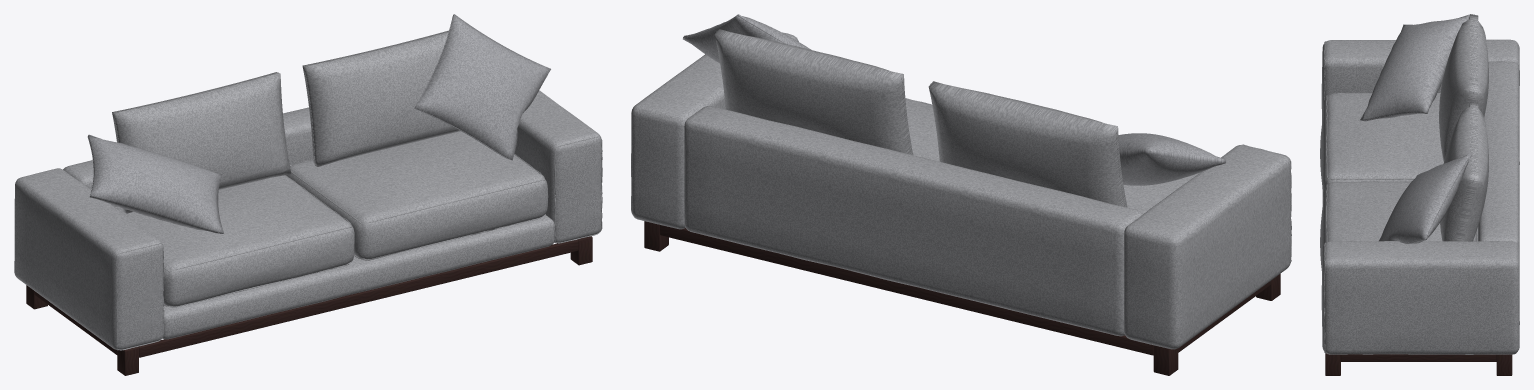
The model's file is stanza-straight-01-mobile.glb.
3 views of the same model, side by side, from view 1: azimuth 30°, elevation 25°; view 2: azimuth 150°, elevation 25°; view 3: azimuth 270°, elevation 25° (orthographic). The views are drawn at different scales.
Visible parts, largest first — view 1: seat_cushion_2, arm_l, seat_cushion_1, back_cushion_2_cover, back_cushion_1_cover, base_band, pillow_2_cover, arm_r, pillow_1_cover, plinth_apron_front, back_panel, foot_1 (+2 smaller); view 2: back_panel, arm_l, back_cushion_1_cover, back_cushion_2_cover, arm_r, plinth_apron_back, pillow_1_cover, pillow_2_cover, seat_cushion_2, seat_cushion_1, foot_3, foot_4; view 3: arm_r, seat_cushion_1, back_panel, pillow_1_cover, seat_cushion_2, back_cushion_2_cover, back_cushion_1_cover, arm_l, pillow_2_cover, plinth_apron_side_r, foot_4, foot_2 (+1 smaller).
Boxes of the visible parts, box(x1,y1,x2,y2) form: seat_cushion_2: box(286, 131, 548, 260); arm_l: box(14, 168, 163, 349); seat_cushion_1: box(116, 175, 354, 307); back_cushion_2_cover: box(302, 30, 460, 166); back_cushion_1_cover: box(112, 72, 291, 213); base_band: box(162, 215, 554, 339); pillow_2_cover: box(414, 14, 550, 160); arm_r: box(514, 90, 601, 243); pillow_1_cover: box(87, 134, 223, 233); plinth_apron_front: box(138, 240, 578, 357); back_panel: box(63, 107, 312, 207); foot_1: box(117, 347, 138, 375); back_panel: box(684, 106, 1142, 336); arm_l: box(1123, 145, 1291, 349); back_cushion_1_cover: box(928, 81, 1127, 207); back_cushion_2_cover: box(714, 29, 913, 154); arm_r: box(631, 32, 797, 229); plinth_apron_back: box(660, 225, 1153, 355); pillow_1_cover: box(1118, 133, 1225, 185); pillow_2_cover: box(683, 14, 811, 63); seat_cushion_2: box(905, 98, 939, 161); seat_cushion_1: box(1123, 172, 1200, 213); foot_3: box(1153, 345, 1178, 375); foot_4: box(644, 221, 668, 251); arm_r: box(1321, 241, 1519, 354); seat_cushion_1: box(1320, 93, 1443, 197); back_panel: box(1478, 61, 1519, 324); pillow_1_cover: box(1360, 14, 1469, 121); seat_cushion_2: box(1320, 181, 1477, 270); back_cushion_2_cover: box(1440, 101, 1488, 241); back_cushion_1_cover: box(1439, 14, 1488, 161); arm_l: box(1321, 39, 1519, 122); pillow_2_cover: box(1379, 153, 1471, 243); plinth_apron_side_r: box(1340, 354, 1496, 361); foot_4: box(1496, 354, 1512, 375); foot_2: box(1325, 353, 1340, 375).
Bounding box in the file's own units: 2.33 × 0.9393 × 0.8721.
5 materials, 5 textured.
